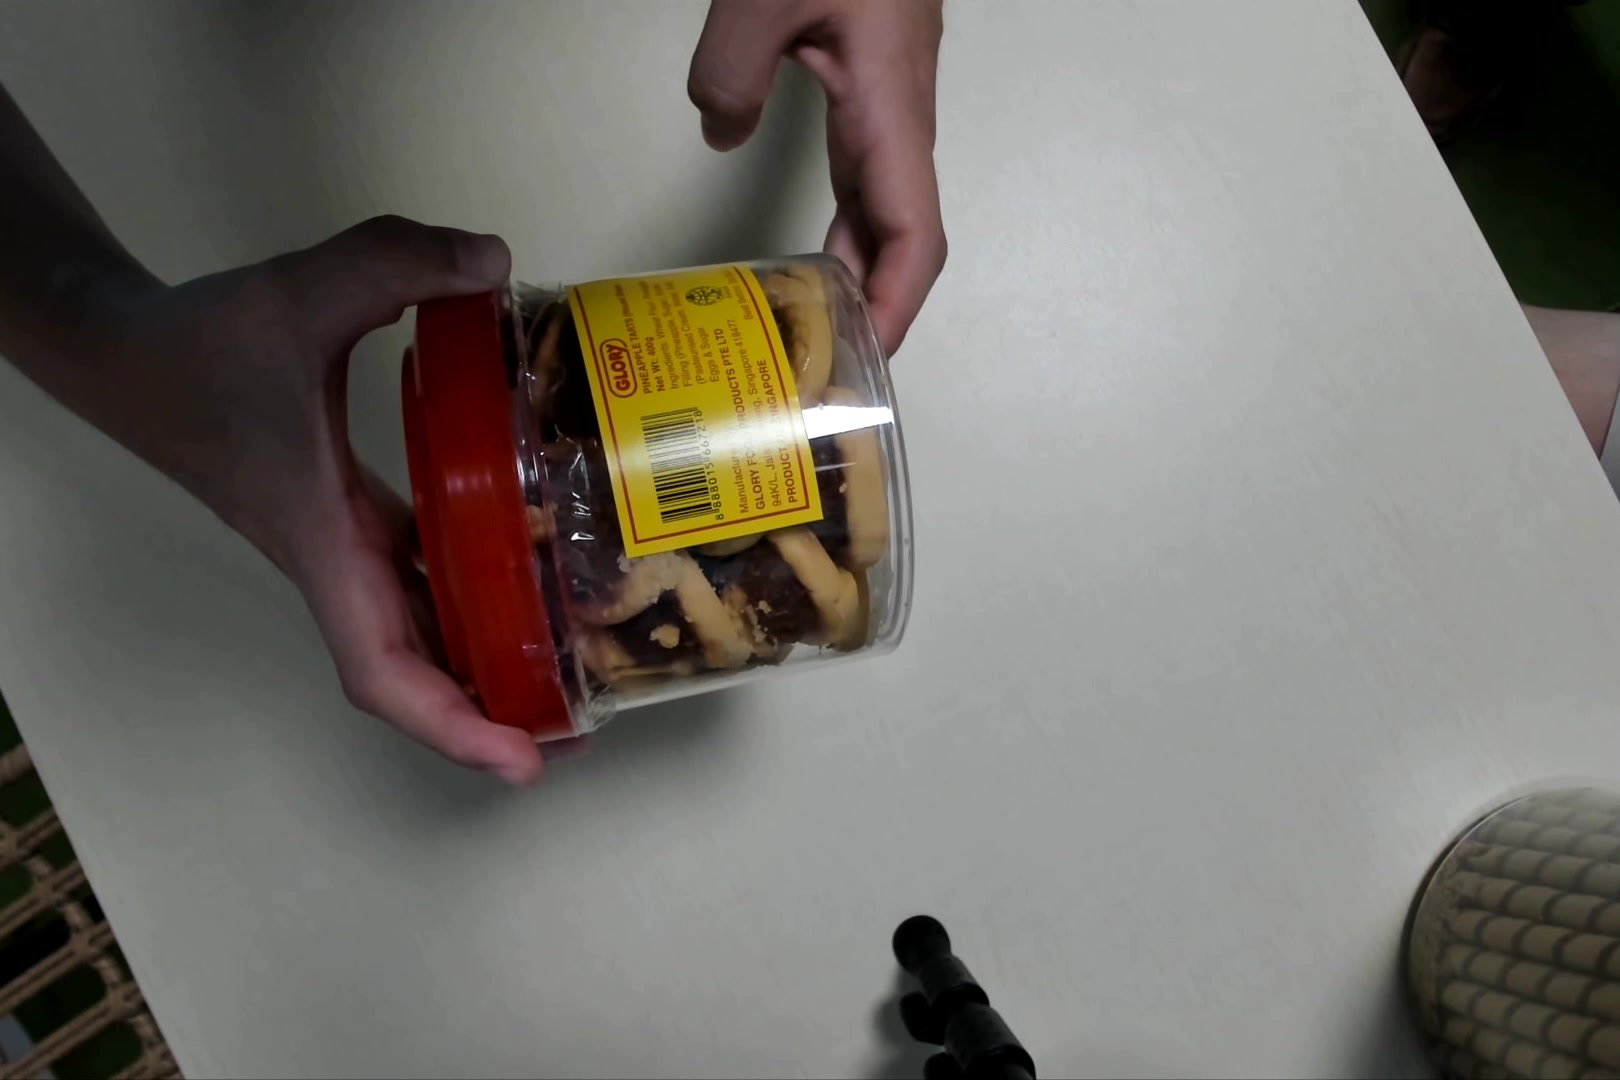BiscuitsCrackersCookies_400-499g_Halal_NonHealthy: (398, 256, 911, 762)
